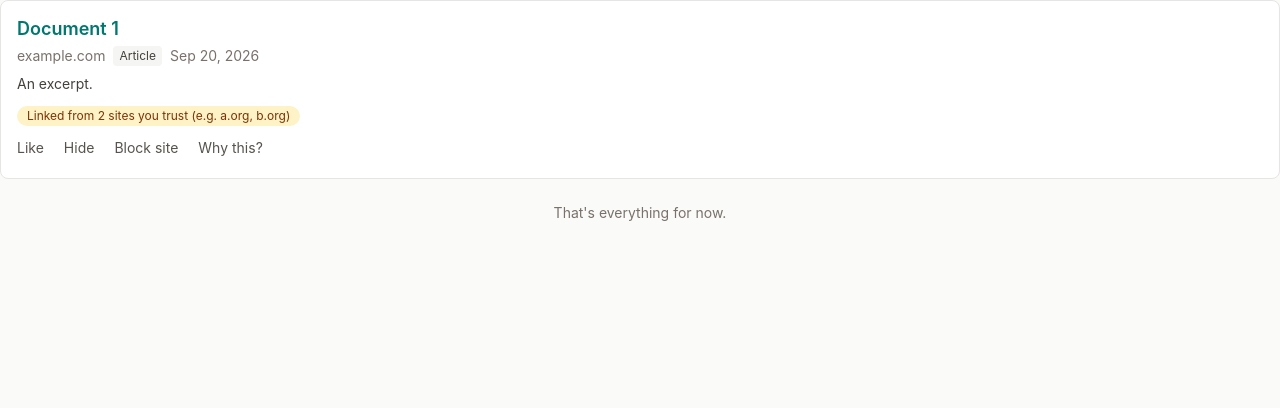
Test: asks what you liked after a like, and saves the answer
Click the button "Like". click: [30, 148]
box: [9,134,52,162]
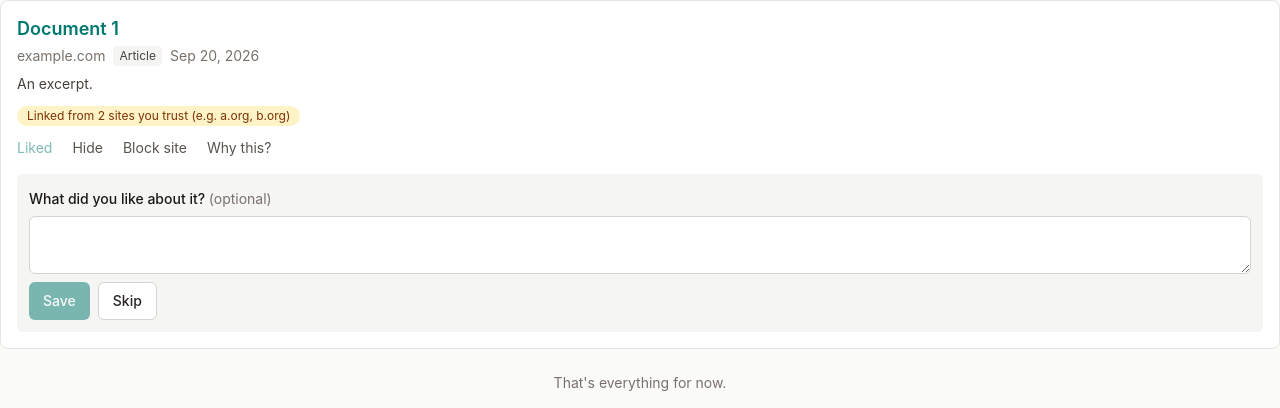
Type "Clear argument" into the text box labelled "What did you like about it? (optional)". click: [640, 245]
box: [29,216,1251,274]
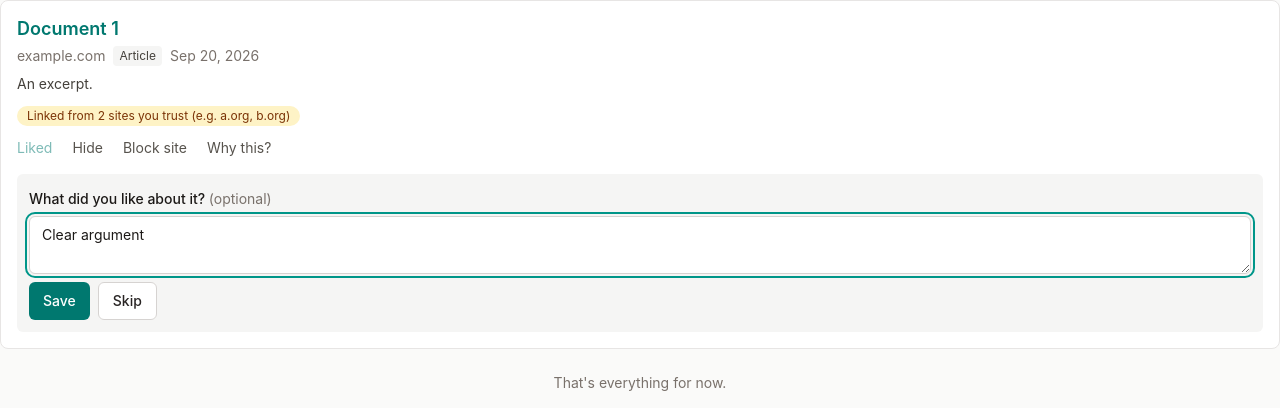
Click the button "Save". click: [59, 301]
box: [29,282,90,320]
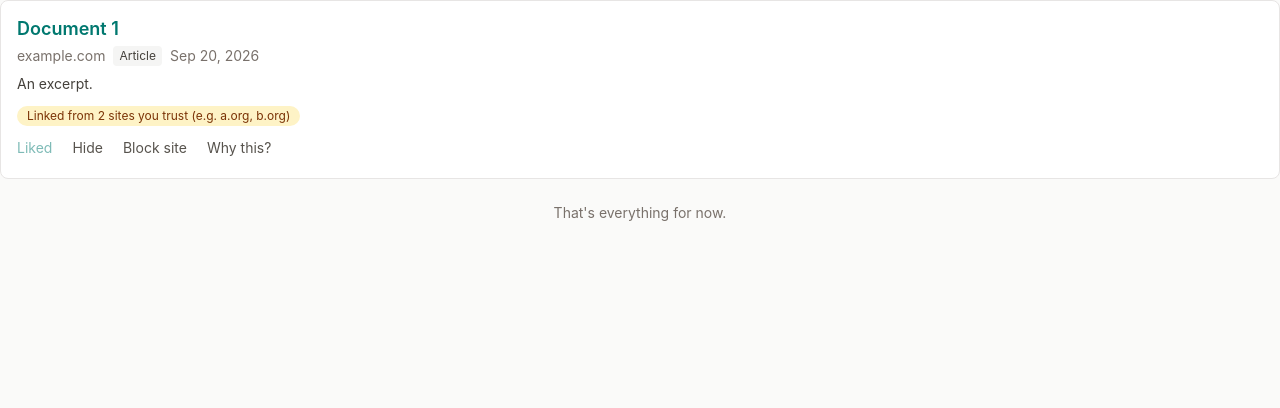
Now the label "What did you like" is gone
